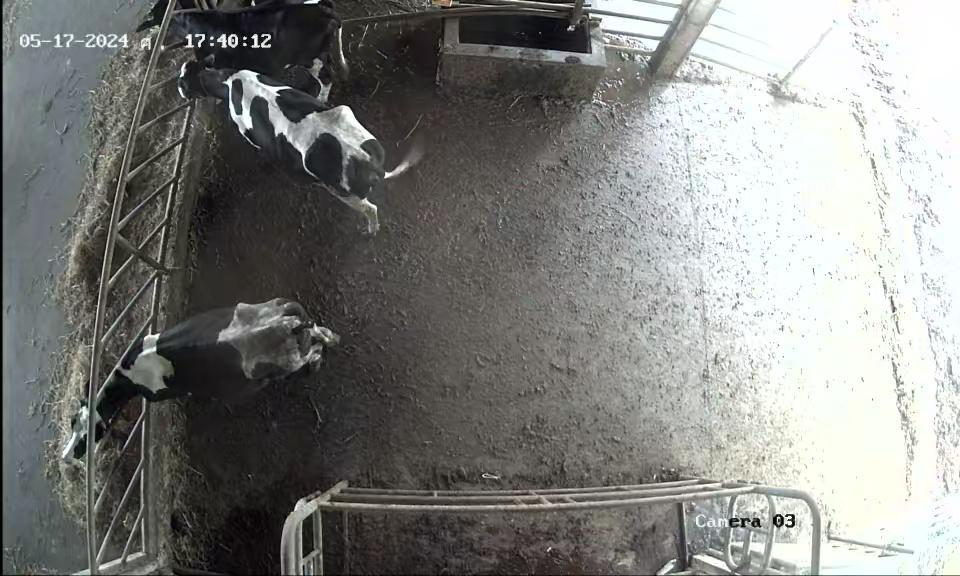eat: (52, 352, 139, 472), (121, 0, 223, 53)
stand: (177, 54, 432, 258)
